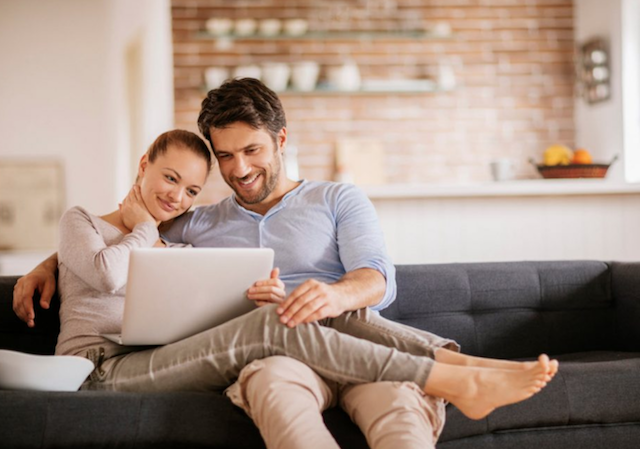computer: (124, 247, 284, 350)
pants: (80, 302, 461, 397)
